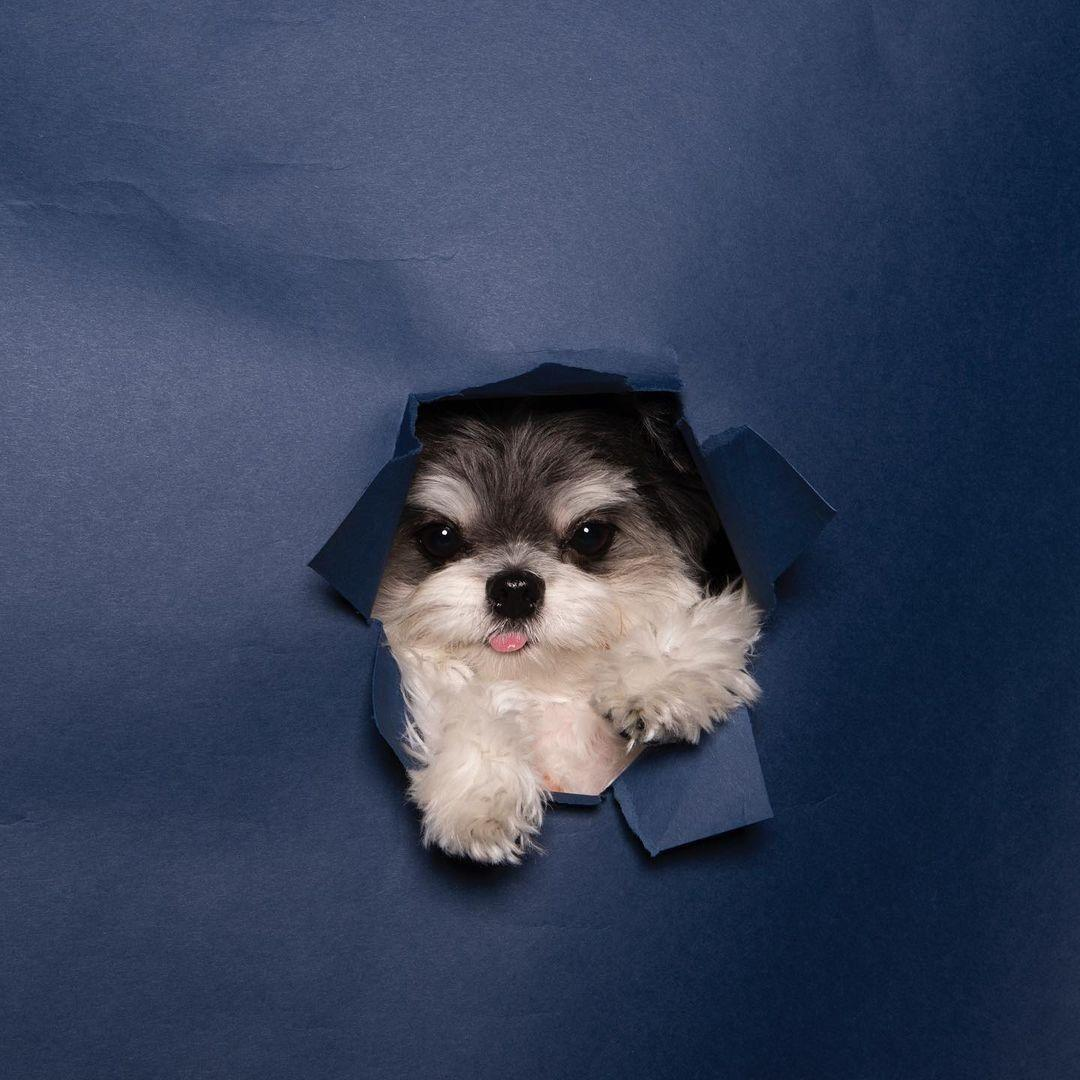puppy-dog: (375, 399, 765, 862)
